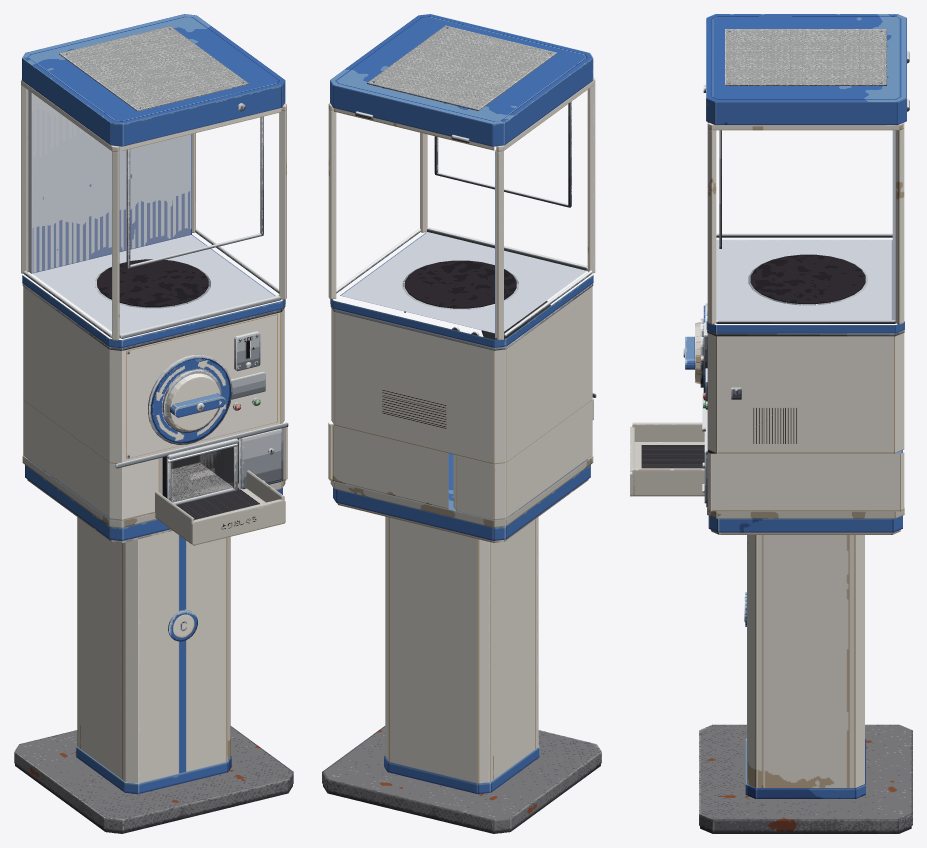
File: standard.glb
The picture shows the model from 3 angles, left to right: view 1: azimuth 30°, elevation 25°; view 2: azimuth 150°, elevation 25°; view 3: azimuth 270°, elevation 25°; orthographic projection. The views are drawn at different scales.
Visible parts, largest first — view 1: body, stand, lid, crank, flap, drawer; view 2: body, stand, lid; view 3: body, stand, lid, crank.
Boxes of the visible parts, bbox=[...] form: body: bbox=[21, 78, 288, 545]; stand: bbox=[14, 459, 293, 833]; lid: bbox=[22, 14, 285, 146]; crank: bbox=[162, 369, 225, 432]; flap: bbox=[168, 443, 237, 502]; drawer: bbox=[238, 428, 281, 489]; body: bbox=[328, 77, 596, 527]; stand: bbox=[322, 453, 601, 833]; lid: bbox=[330, 14, 593, 146]; body: bbox=[630, 122, 904, 518]; stand: bbox=[699, 450, 912, 833]; lid: bbox=[703, 14, 909, 125]; crank: bbox=[683, 318, 703, 387].
Size of the model in its own units: 0.39 by 1.4 by 0.489.
8 materials, 8 textured.
